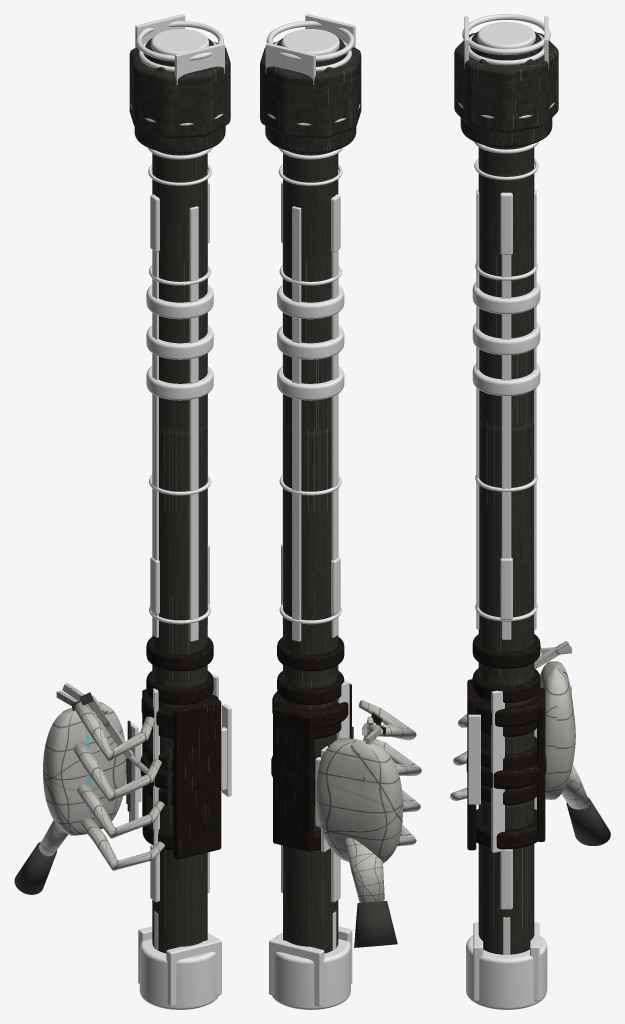
File: hand-rod-onehand-v1.glb
3 renders of one model, left to right at view 1: azimuth 30°, elevation 25°; view 2: azimuth 150°, elevation 25°; view 3: azimuth 270°, elevation 25°, orthographic.
Visible parts, largest first — view 1: iron_rod_main_bar, iron_rod_grip_front_pressure_flat, iron_rod_premium_octagonal_strike_collar, right_rod_blueprint_continuous_palm_shell, iron_rod_left_cap, iron_rod_long_scrape_rail_3, iron_rod_long_scrape_rail_2, right_middle_rod_blueprint_three_segment_frontstrap_curl, right_index_rod_blueprint_three_segment_frontstrap_curl, iron_rod_premium_counterweight_flat_b, iron_rod_right_impact_cap, right_ring_rod_blueprint_three_segment_frontstrap_curl (+19 smaller); view 2: iron_rod_main_bar, right_rod_blueprint_continuous_palm_shell, iron_rod_premium_octagonal_strike_collar, iron_rod_grip_backstrap_flat, iron_rod_left_cap, iron_rod_long_scrape_rail_1, iron_rod_long_scrape_rail_2, right_rod_wrist_skin_bridge, right_rod_visible_wrist_sleeve, iron_rod_right_impact_cap, iron_rod_premium_counterweight_flat_a, iron_rod_grip_band_4 (+14 smaller); view 3: iron_rod_main_bar, iron_rod_premium_octagonal_strike_collar, iron_rod_left_cap, right_rod_blueprint_continuous_palm_shell, iron_rod_long_scrape_rail_0, iron_rod_long_scrape_rail_3, iron_rod_right_impact_cap, iron_rod_aesthetic_leather_wrap_swell_top, iron_rod_premium_recessed_strike_face, iron_rod_grip_band_4, right_rod_visible_wrist_sleeve, iron_rod_aesthetic_leather_wrap_swell_low (+23 smaller).
Boxes of the visible parts, x1,y1,x2,y2 form: iron_rod_main_bar: [152, 151, 207, 953]; iron_rod_grip_front_pressure_flat: [173, 698, 221, 859]; iron_rod_premium_octagonal_strike_collar: [129, 42, 230, 138]; right_rod_blueprint_continuous_palm_shell: [43, 702, 126, 835]; iron_rod_left_cap: [139, 933, 219, 1009]; iron_rod_long_scrape_rail_3: [189, 206, 198, 641]; iron_rod_long_scrape_rail_2: [152, 250, 158, 637]; right_middle_rod_blueprint_three_segment_frontstrap_curl: [73, 742, 161, 802]; right_index_rod_blueprint_three_segment_frontstrap_curl: [75, 700, 154, 761]; iron_rod_premium_counterweight_flat_b: [166, 938, 221, 1006]; iron_rod_right_impact_cap: [134, 58, 225, 153]; right_ring_rod_blueprint_three_segment_frontstrap_curl: [77, 783, 164, 838]; iron_rod_main_bar: [283, 151, 338, 953]; right_rod_blueprint_continuous_palm_shell: [316, 738, 402, 863]; iron_rod_premium_octagonal_strike_collar: [260, 42, 361, 138]; iron_rod_grip_backstrap_flat: [273, 706, 314, 851]; iron_rod_left_cap: [271, 933, 350, 1009]; iron_rod_long_scrape_rail_1: [292, 206, 301, 641]; iron_rod_long_scrape_rail_2: [331, 250, 338, 637]; right_rod_wrist_skin_bridge: [345, 838, 384, 902]; right_rod_visible_wrist_sleeve: [354, 900, 397, 947]; iron_rod_right_impact_cap: [265, 58, 356, 153]; iron_rod_premium_counterweight_flat_a: [269, 938, 324, 1006]; iron_rod_grip_band_4: [277, 637, 344, 671]; iron_rod_main_bar: [478, 145, 534, 954]; iron_rod_premium_octagonal_strike_collar: [454, 32, 558, 133]; iron_rod_left_cap: [466, 935, 547, 1009]; right_rod_blueprint_continuous_palm_shell: [540, 661, 575, 799]; iron_rod_long_scrape_rail_0: [501, 255, 511, 639]; iron_rod_long_scrape_rail_3: [476, 189, 479, 629]; iron_rod_right_impact_cap: [460, 46, 552, 147]; iron_rod_aesthetic_leather_wrap_swell_top: [476, 689, 545, 726]; iron_rod_premium_recessed_strike_face: [477, 22, 535, 48]; iron_rod_grip_band_4: [472, 634, 540, 668]; right_rod_visible_wrist_sleeve: [566, 797, 610, 845]; iron_rod_aesthetic_leather_wrap_swell_low: [476, 809, 537, 849].
Bounding box in the file's own units: 0.5234 × 2.83 × 0.4273.
12 materials, 4 textured.
